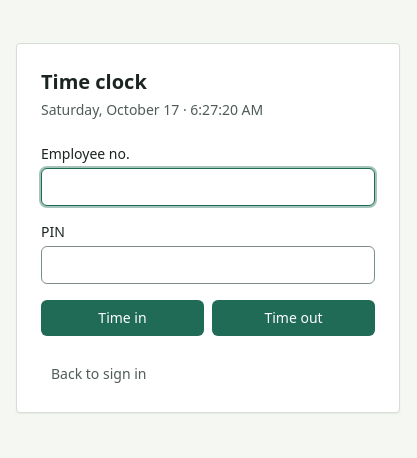
KioskPage › shows the backend's refusal and clears only the PIN
Type "EMP-0001" into the field labelled "Employee no.".
click(208, 187); type("EMP-0001")  # box 41,168 -> 375,206
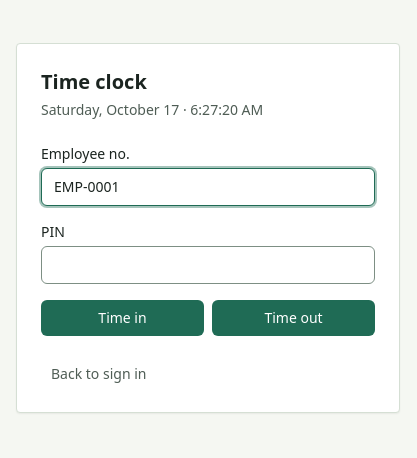
Type "9999" into the password field labelled "PIN".
click(208, 265); type("9999")  # box 41,246 -> 375,284
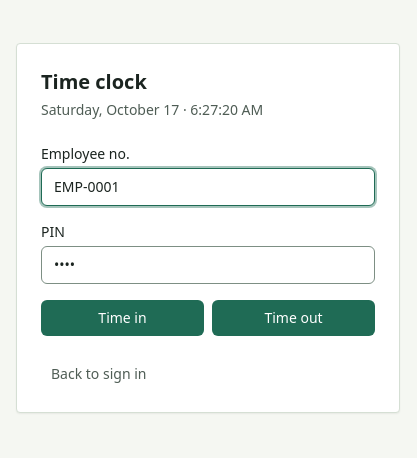
Click the button "Time in".
click(122, 318)  # box 41,300 -> 204,336
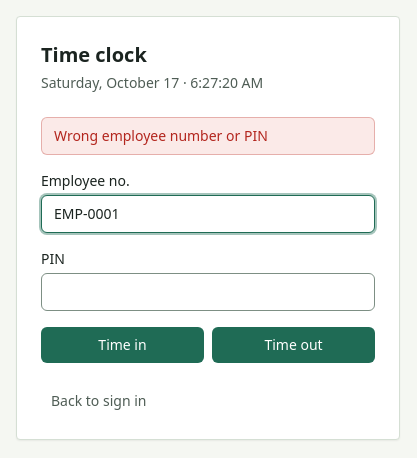
Result: the message reads "Wrong employee number or PIN" at 54,126 -> 268,145
Result: the password field labelled "PIN" is empty at 41,273 -> 375,311
